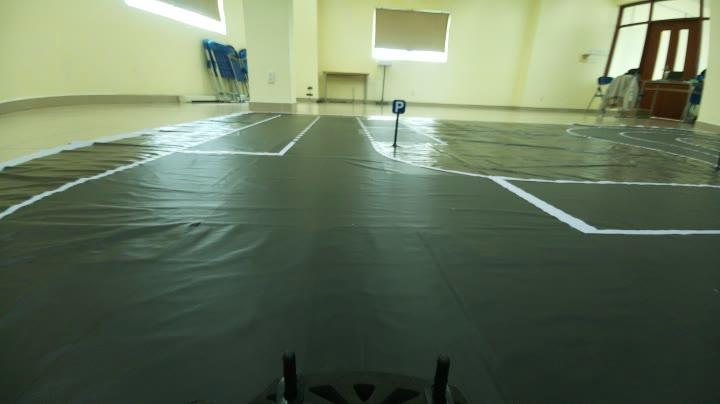parking: (387, 94, 411, 120)
